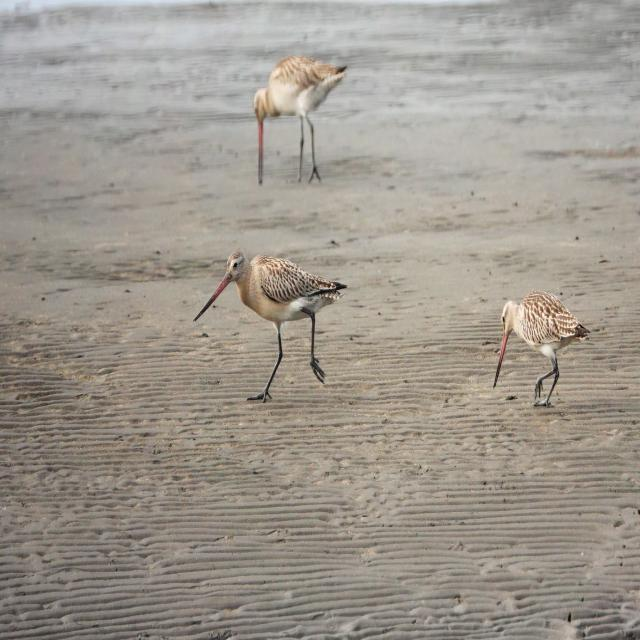bird: (198, 251, 352, 397), (249, 56, 352, 187), (494, 290, 596, 402)
